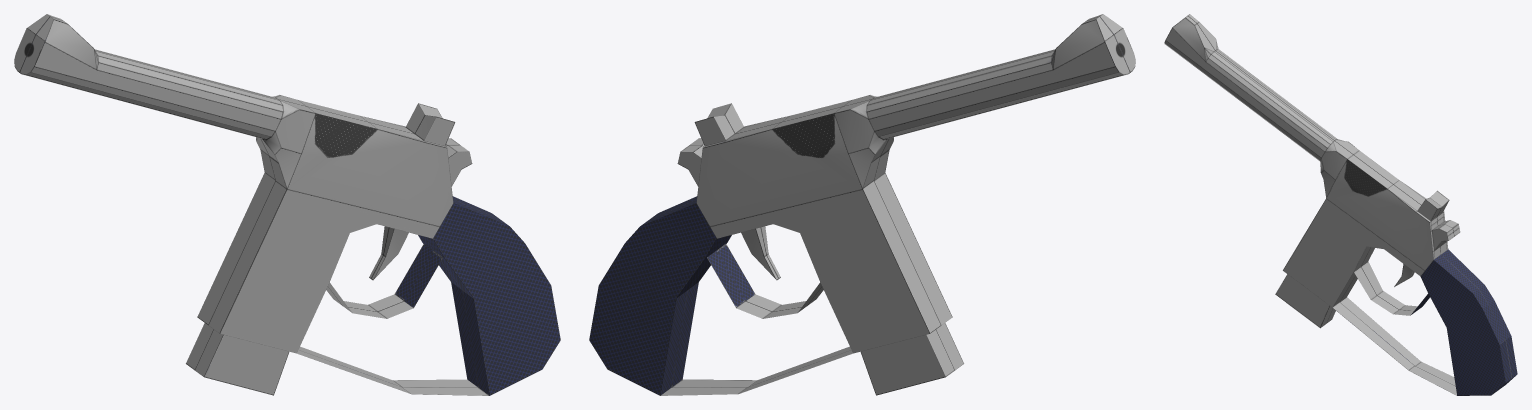
The model's file is Gun.fbx.
3 renders of one model, left to right at view 1: azimuth 30°, elevation 25°; view 2: azimuth 150°, elevation 25°; view 3: azimuth 330°, elevation 25°, orthographic. The views are drawn at different scales.
Parts seen in each view (by area): view 1: Plane.003; view 2: Plane.003; view 3: Plane.003.
Part boxes in pixels (x1,y1,x2,y2): Plane.003: [14, 14, 560, 395]; Plane.003: [589, 14, 1135, 395]; Plane.003: [1164, 14, 1517, 395].
Size of the model in its own units: 86.24 by 73.68 by 6.3.
